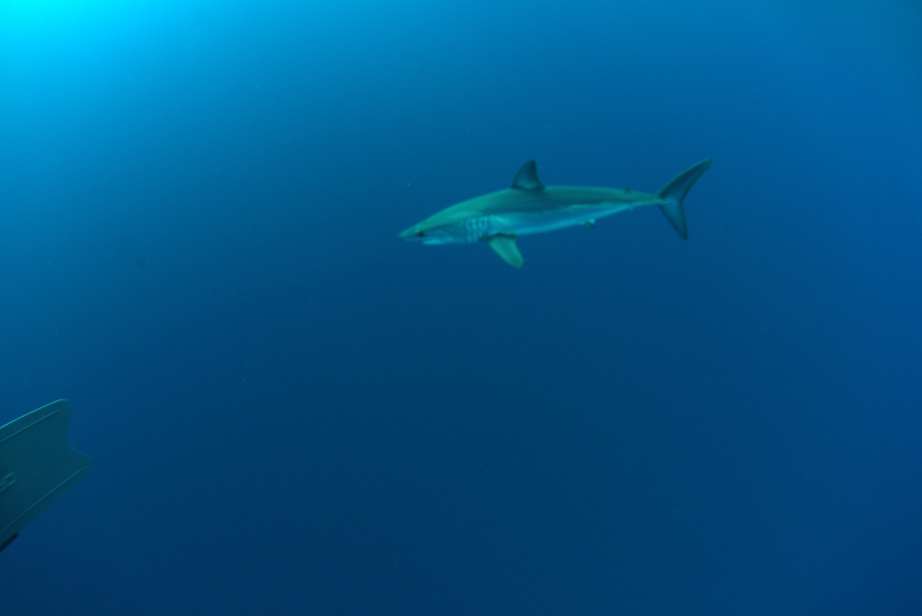Mako: (389, 148, 715, 275)
